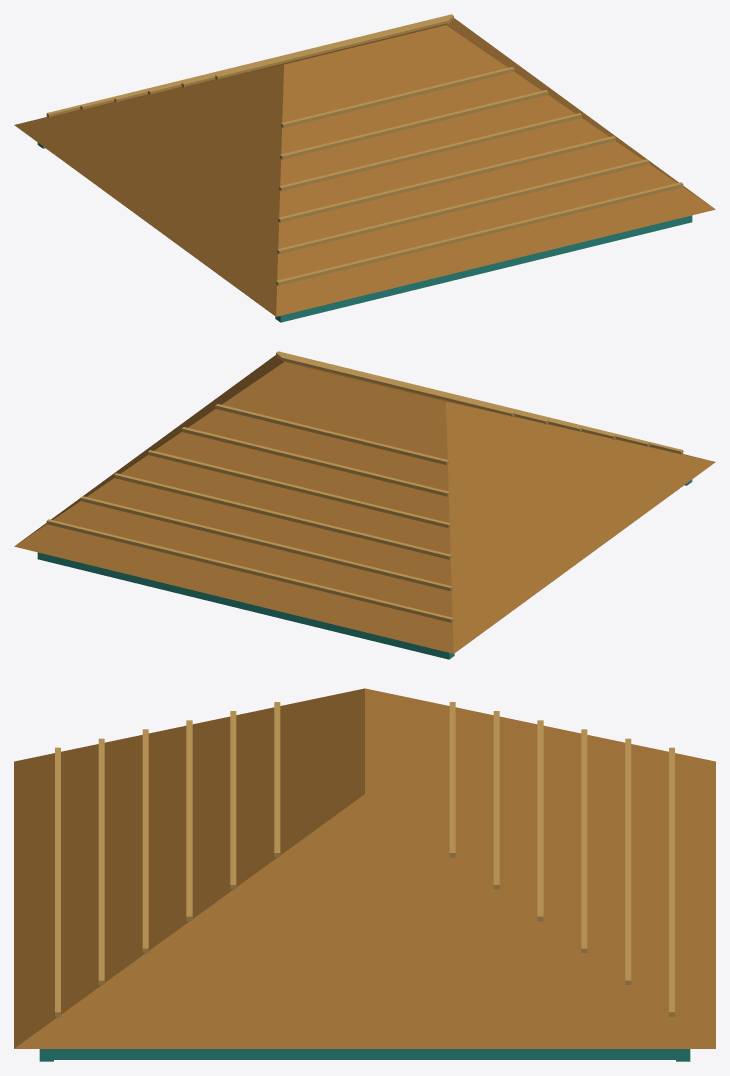
Rendered from Tropical_PavilionRoof_Showcase.glb.
3 views of the same model, one above another, from view 1: azimuth 30°, elevation 25°; view 2: azimuth 150°, elevation 25°; view 3: azimuth 270°, elevation 25° (orthographic). The views are drawn at different scales.
Parts seen in each view (by area): view 1: Tropical_PavilionRoof_Showcase; view 2: Tropical_PavilionRoof_Showcase; view 3: Tropical_PavilionRoof_Showcase.
Part boxes in pixels (<box>): Tropical_PavilionRoof_Showcase: <box>14,14,715,322</box>; Tropical_PavilionRoof_Showcase: <box>14,351,715,659</box>; Tropical_PavilionRoof_Showcase: <box>14,688,715,1061</box>.
Bounding box in the file's own units: 6.2 × 1.87 × 6.4.
